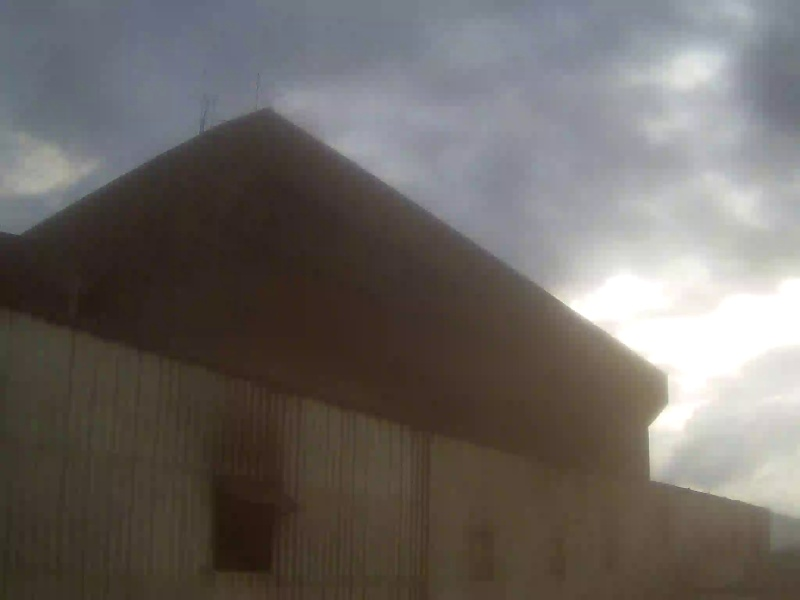bom: (285, 53, 714, 414), (7, 8, 309, 148)
